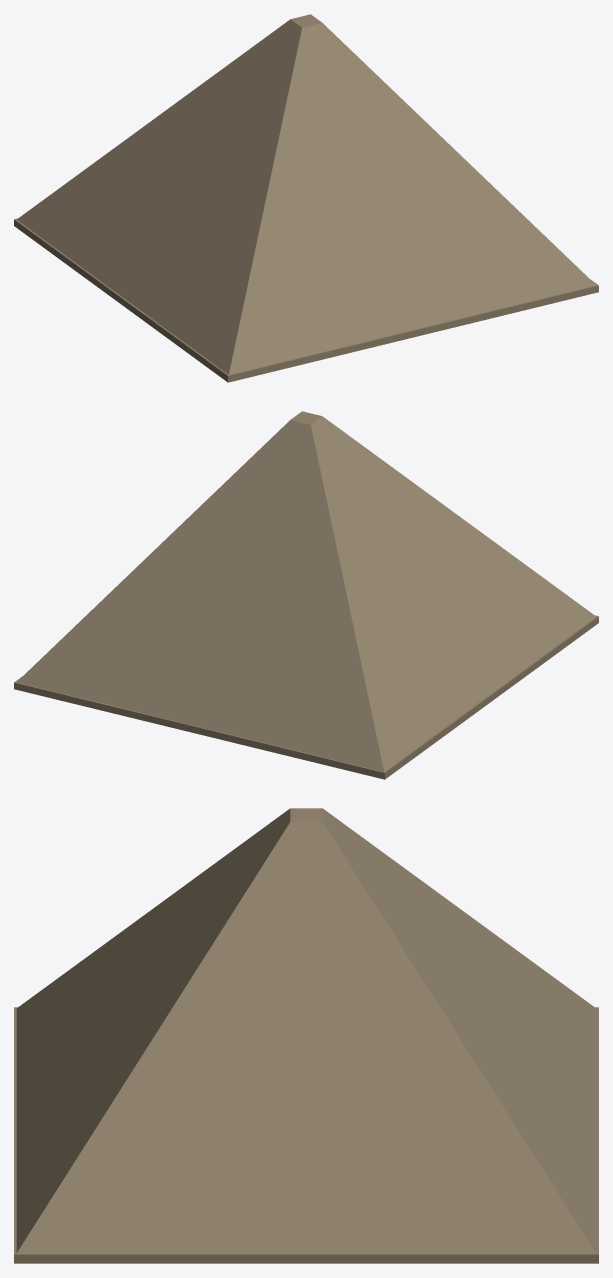
Rendered from pyramid_of_khufu-r3-lod1.glb.
3 views of the same model, one above another, from view 1: azimuth 30°, elevation 25°; view 2: azimuth 150°, elevation 25°; view 3: azimuth 270°, elevation 25° (orthographic). The views are drawn at different scales.
Visible parts, largest first — view 1: Giza limestone core blocks; view 2: Giza limestone core blocks; view 3: Giza limestone core blocks.
Boxes of the visible parts, x1=… form: Giza limestone core blocks: x1=14, y1=14, x2=598, y2=382; Giza limestone core blocks: x1=14, y1=411, x2=598, y2=779; Giza limestone core blocks: x1=14, y1=808, x2=598, y2=1263.
Size of the model in its own units: 232 by 142 by 232.
